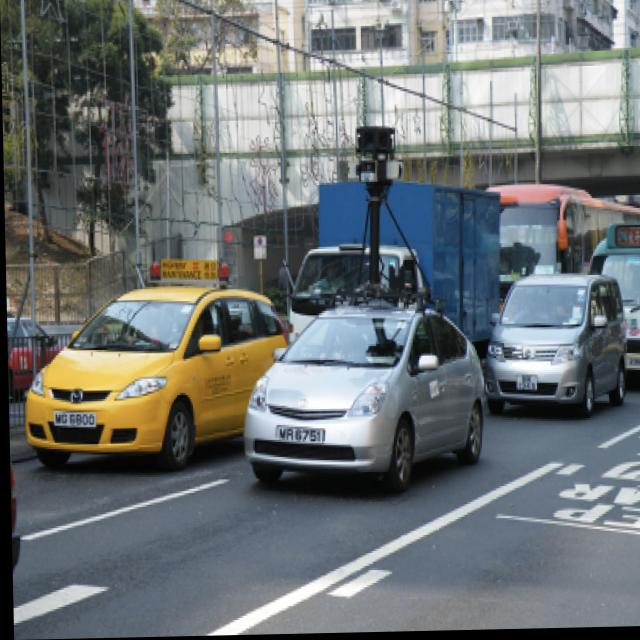licence: (274, 423, 323, 450), (52, 406, 97, 430), (506, 372, 538, 397), (621, 354, 640, 373)
